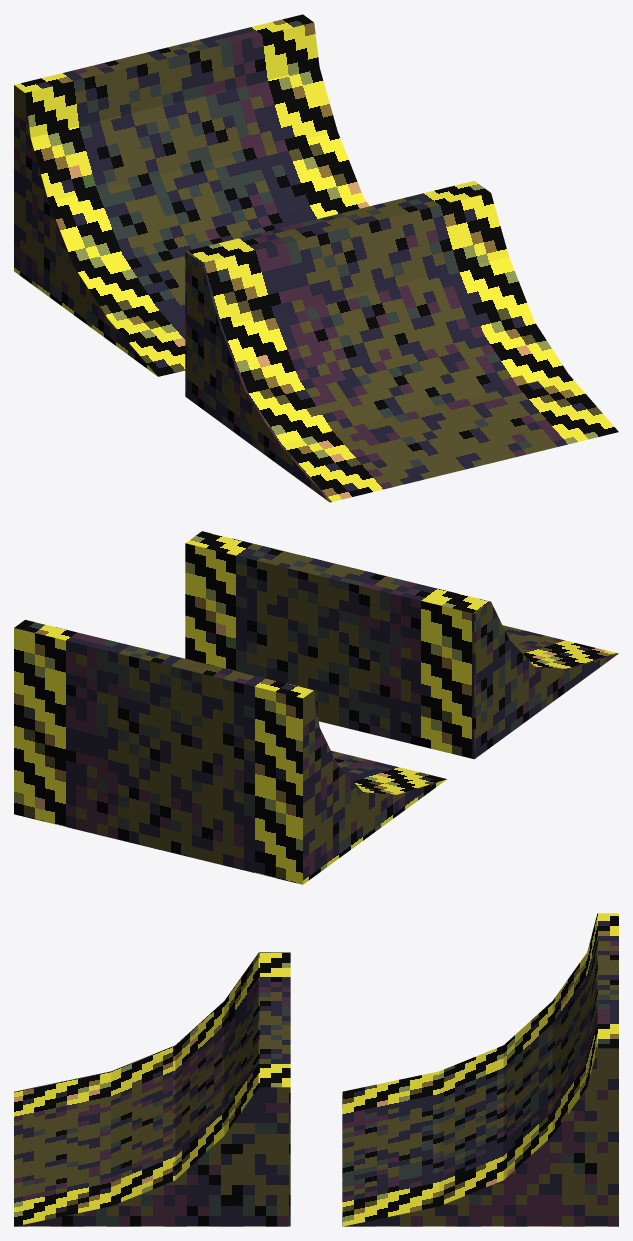
Rendered from old_ramps.fbx.
3 views of the same model, one above another, from view 1: azimuth 30°, elevation 25°; view 2: azimuth 150°, elevation 25°; view 3: azimuth 270°, elevation 25° (orthographic). The views are drawn at different scales.
Visible parts, largest first — view 1: ramp, ramp.001; view 2: ramp.001, ramp; view 3: ramp.001, ramp.
Boxes of the visible parts, x1,y1,x2,y2 form: ramp: (185, 181, 618, 502); ramp.001: (14, 14, 369, 376); ramp.001: (14, 619, 446, 884); ramp: (185, 531, 618, 759); ramp.001: (342, 913, 618, 1226); ramp: (14, 952, 290, 1226).
Size of the model in its own units: 577 by 356 by 1093.
1 material, 1 textured.
